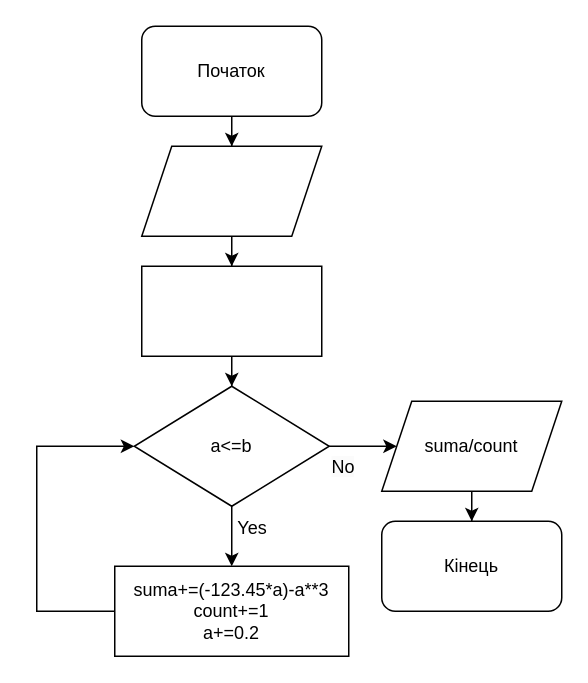
Some shapes in this 588 by 683 pixel diagram are drawn without their labels. Here are the shapes that lost their labels. From the top down, the centre of each, then its label:
At point 231,190: "a, b".
At point 231,310: "suma, count = 0".
